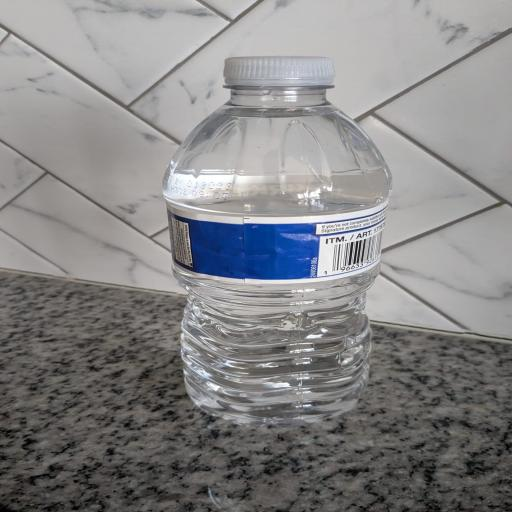waterbottle: (164, 57, 390, 425)
